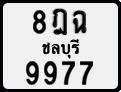letters: (53, 8, 67, 36), (79, 60, 94, 86), (32, 9, 47, 34), (44, 60, 58, 86), (62, 60, 76, 86), (73, 10, 87, 34), (26, 60, 39, 85)
province: (41, 39, 80, 59)
